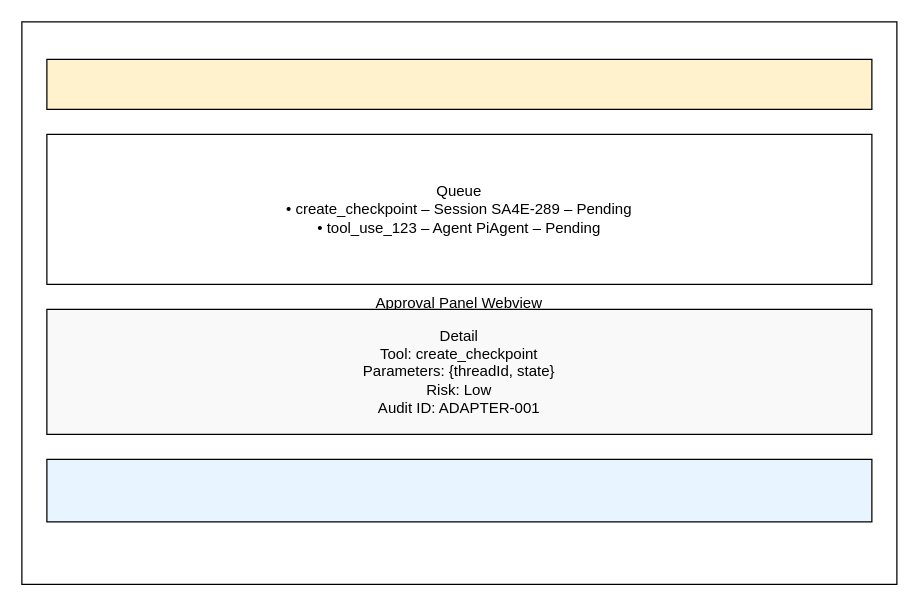
Some shapes in this 919 by 606 pixel diagram are drawn without their labels. The shapes that lost their labels are listed below. From the top down, each one's centre as x and y in pixels, then its label:
(459,83): Approval Requests – Pi Workflow
(459,490): [Approve] [Reject] [Request Info]
